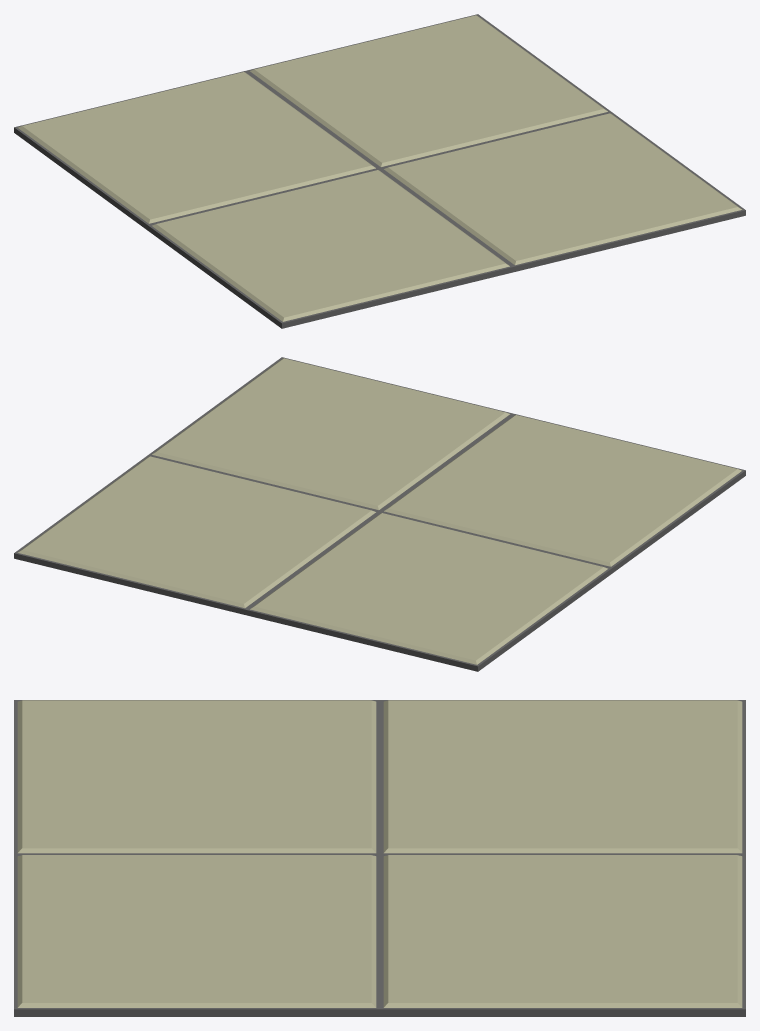
File: living room tile.fbx
3 views of the same model, one above another, from view 1: azimuth 30°, elevation 25°; view 2: azimuth 150°, elevation 25°; view 3: azimuth 270°, elevation 25° (orthographic). The views are drawn at different scales.
Parts seen in each view (by area): view 1: Box001; view 2: Box001; view 3: Box001.
Boxes of the visible parts, x1,y1,x2,y2 form: Box001: (14,14,745,328); Box001: (14,357,745,671); Box001: (14,700,745,1016).
Size of the model in its own units: 78.74 by 1.25 by 78.74.
